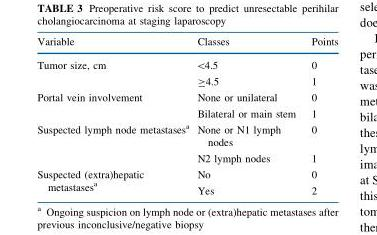table: (36, 36, 337, 195)
table column: (36, 36, 191, 195), (191, 36, 303, 195), (303, 36, 337, 195)
table column header: (36, 36, 337, 52)
table row: (36, 120, 337, 150), (36, 52, 337, 73), (36, 36, 337, 52), (36, 73, 337, 89), (36, 89, 337, 105), (36, 150, 337, 166), (36, 166, 337, 182), (36, 105, 337, 120), (36, 182, 337, 195)
table spanning cell: (36, 120, 191, 166), (36, 52, 191, 89), (36, 89, 191, 120), (36, 166, 191, 195)
